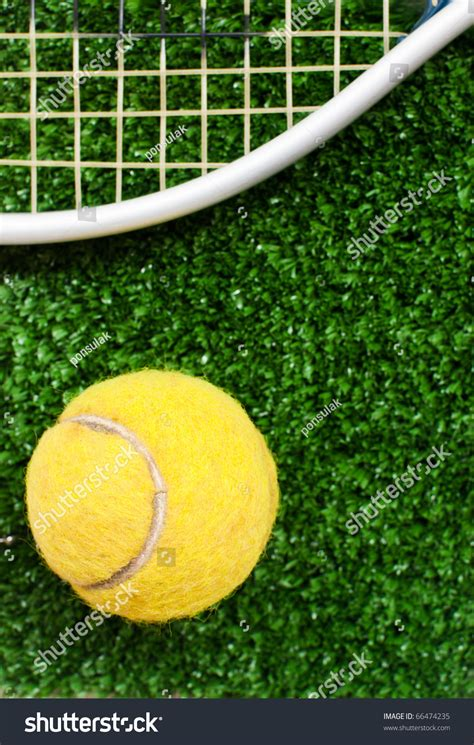tennis_ball: (22, 368, 279, 627)
